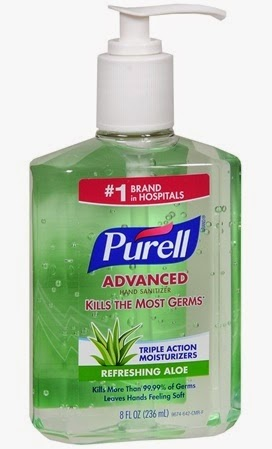Sanitizer: (26, 2, 246, 446)
